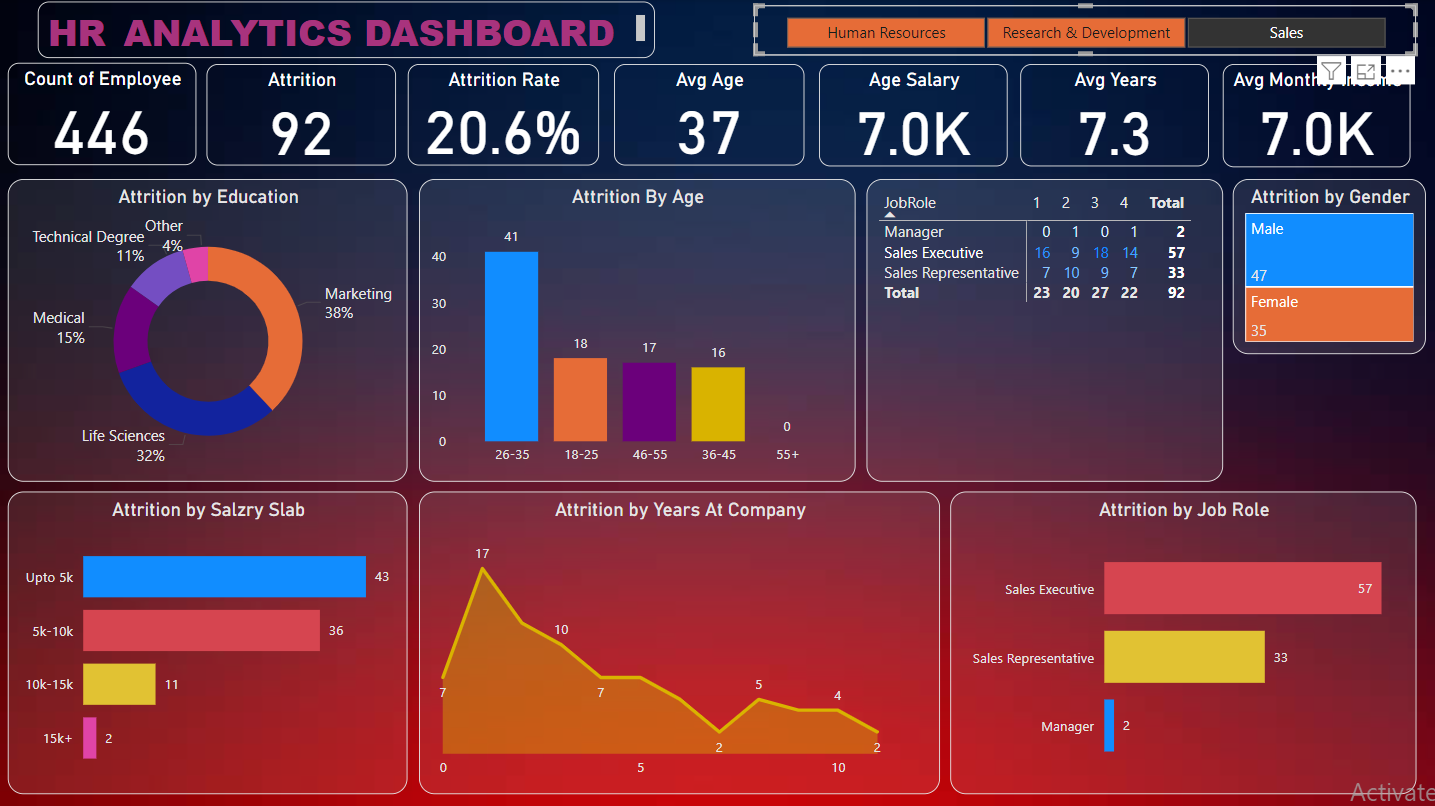

This screenshot's page, from the dashboard's own definition file:
{"tool":"powerbi","page":{"name":"Page 1","canvas":[1280,720],"ordinal":0},"visuals":[{"type":"card","title":"Count of Employee","fields":{"Values":["Count(HR_Analytics.EmpID)"]},"box":[7.8,56.8,168.1,91.3],"z":0},{"type":"card","title":"Attrition","fields":{"Values":["Sum(HR_Analytics.AttritionCount)"]},"box":[185.2,57.6,168.8,90.6],"z":1000},{"type":"card","title":"Attrition Rate","fields":{"Values":["HR_Analytics.AttritionRate"]},"box":[364,57.9,170.3,90.2],"z":2000},{"type":"card","title":"Avg Age","fields":{"Values":["Avg(HR_Analytics.Age)"]},"box":[547.7,57.9,169.2,90.2],"z":3000},{"type":"card","title":"Age Salary","fields":{"Values":["Avg(HR_Analytics.MonthlyIncome)"]},"box":[730.2,57.9,168.1,91.3],"z":4000},{"type":"card","title":"Avg Years","fields":{"Values":["Avg(HR_Analytics.YearsAtCompany)"]},"box":[909.5,57.9,168.1,91.3],"z":5000},{"type":"donutChart","title":"Attrition by Education","fields":{"Category":["HR_Analytics.EducationField"],"Y":["Sum(HR_Analytics.AttritionCount)"]},"box":[7.8,160.3,356.2,269.4],"z":6000},{"type":"columnChart","title":"Attrition By Age","fields":{"Category":["HR_Analytics.AgeGroup"],"Y":["Sum(HR_Analytics.AttritionCount)"]},"box":[374,160.3,388.5,269.4],"z":7000},{"type":"pivotTable","fields":{"Rows":["HR_Analytics.JobRole"],"Columns":["HR_Analytics.JobSatisfaction"],"Values":["Sum(HR_Analytics.AttritionCount)"]},"box":[772.5,160.3,317.3,269.4],"z":8000},{"type":"barChart","title":"Attrition by Salzry Slab","fields":{"Category":["HR_Analytics.SalarySlab"],"Y":["Sum(HR_Analytics.AttritionCount)"]},"box":[7.8,438.6,356.2,269.4],"z":9000},{"type":"barChart","title":"Attrition by Job Role","fields":{"Category":["HR_Analytics.JobRole"],"Y":["Sum(HR_Analytics.AttritionCount)"]},"box":[847.1,438.6,415.2,269.4],"z":10000},{"type":"areaChart","title":"Attrition by Years At Company","fields":{"Category":["HR_Analytics.YearsAtCompany"],"Y":["Sum(HR_Analytics.AttritionCount)"]},"box":[374,438.6,464.2,269.4],"z":11000},{"type":"treemap","title":"Attrition by Gender","fields":{"Group":["HR_Analytics.Gender"],"Values":["Sum(HR_Analytics.AttritionCount)"]},"box":[1098.8,160.5,172.1,155.8],"z":12000},{"type":"slicer","fields":{"Values":["HR_Analytics.Department"]},"box":[672.4,5.6,590,44.5],"z":13000},{"type":"textbox","box":[34.9,2.3,551.2,55.8],"z":14000},{"type":"card","title":"Avg Monthly Income","fields":{"Values":["Avg(HR_Analytics.MonthlyIncome)"]},"box":[1089.5,58.1,167.4,91.9],"z":15000}]}

Visuals, with their boxes in screenshot pixels (x1, y1, x2, y2), scaled from the page's 1280x720 canvas onto the 1435x806 screenshot:
"Count of Employee" card: <region>9, 64, 197, 166</region>
"Attrition" card: <region>208, 64, 397, 166</region>
"Attrition Rate" card: <region>408, 65, 599, 166</region>
"Avg Age" card: <region>614, 65, 804, 166</region>
"Age Salary" card: <region>819, 65, 1007, 167</region>
"Avg Years" card: <region>1020, 65, 1208, 167</region>
"Attrition by Education" donutChart: <region>9, 179, 408, 481</region>
"Attrition By Age" columnChart: <region>419, 179, 855, 481</region>
pivotTable - HR_Analytics.JobRole x HR_Analytics.JobSatisfaction: <region>866, 179, 1222, 481</region>
"Attrition by Salzry Slab" barChart: <region>9, 491, 408, 793</region>
"Attrition by Job Role" barChart: <region>950, 491, 1415, 793</region>
"Attrition by Years At Company" areaChart: <region>419, 491, 940, 793</region>
"Attrition by Gender" treemap: <region>1232, 180, 1425, 354</region>
slicer - HR_Analytics.Department: <region>754, 6, 1415, 56</region>
textbox: <region>39, 3, 657, 65</region>
"Avg Monthly Income" card: <region>1221, 65, 1409, 168</region>
